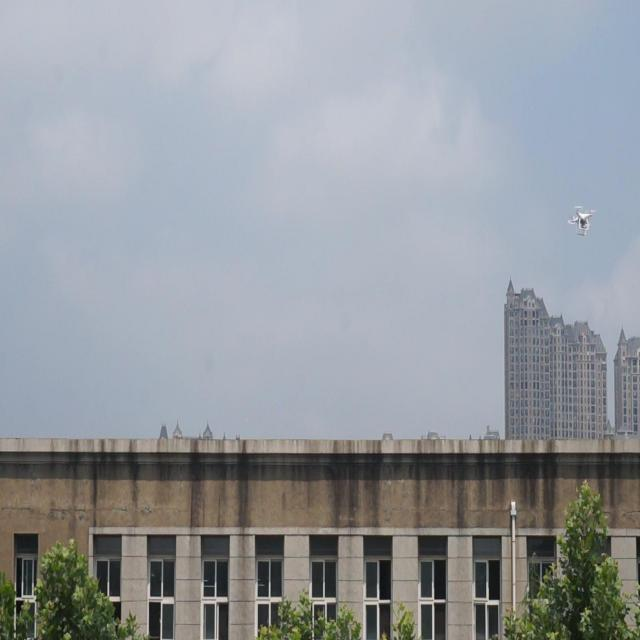UAV: (567, 206, 596, 236)
